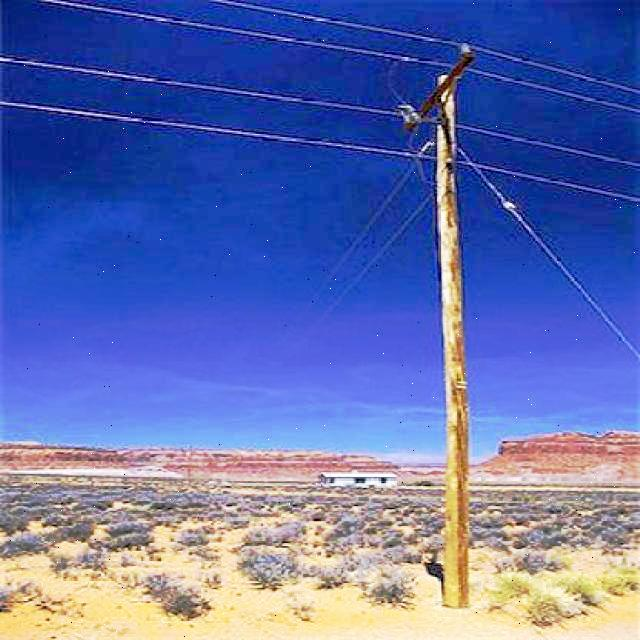poles: (368, 29, 517, 608)
wires: (13, 6, 441, 168), (458, 50, 634, 204)
